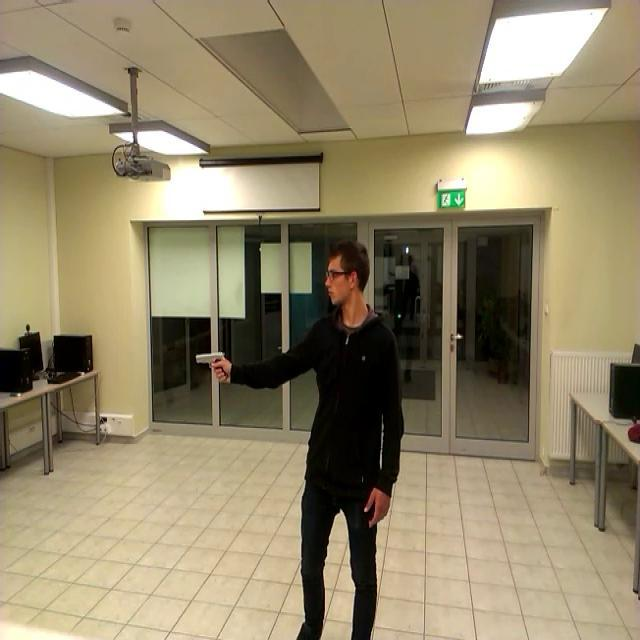Gun: (182, 348, 232, 382)
